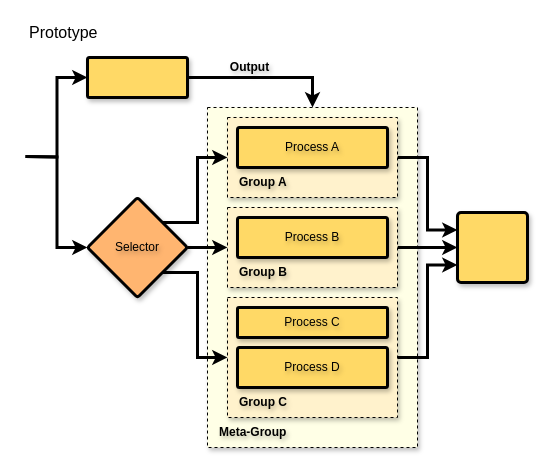
This 552x472 diagram has some shape labels left out. Here are the shapes that lost their labels. From the top down, the centre of each, then its label:
point (138, 79): Preprocess
point (493, 248): Process E
